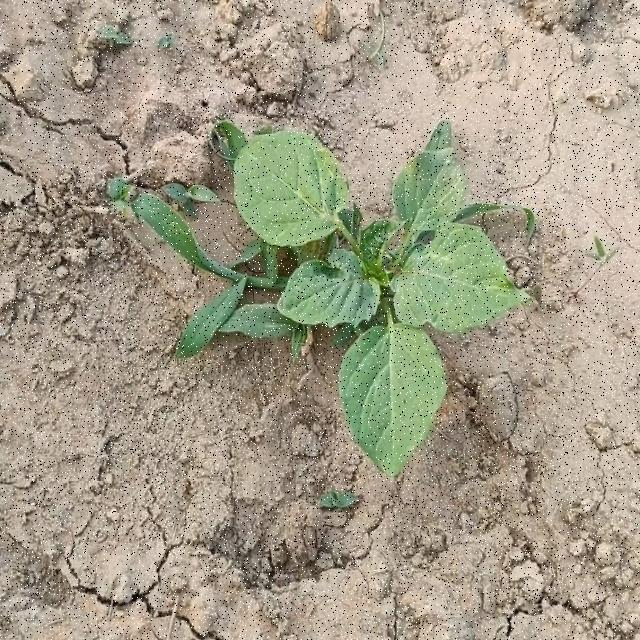plant: (131, 122, 528, 475)
